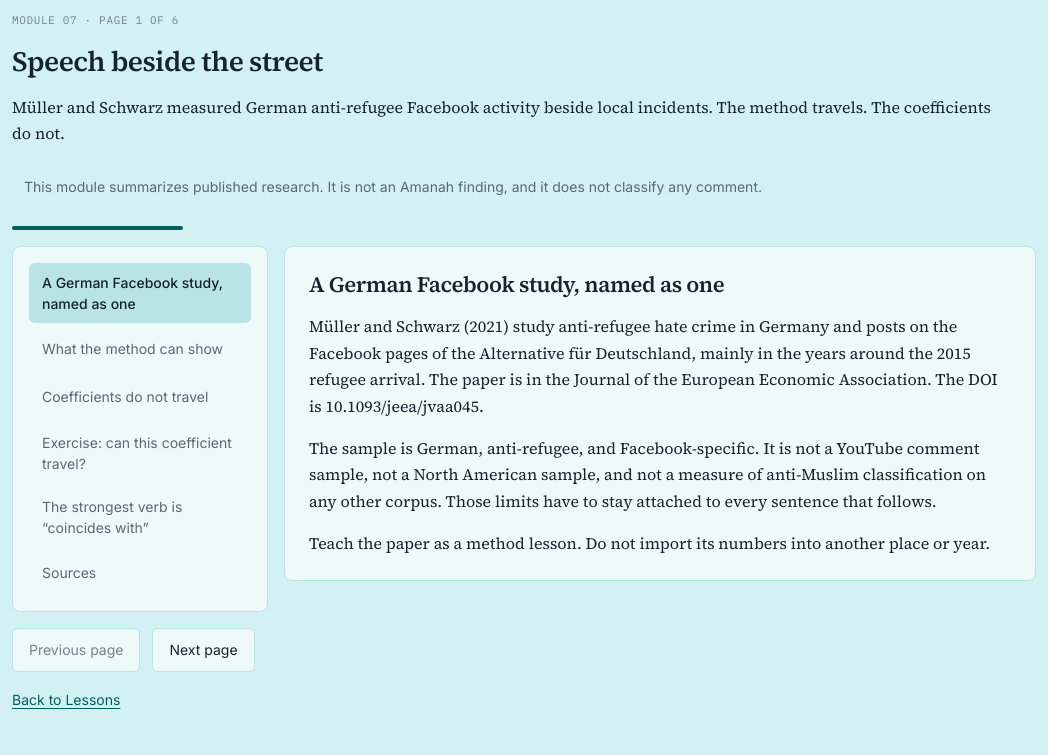
Test: LessonReaderPage › explains a wrong coefficient import as a category error
What coordinates should you click on to do the following:
click the button "Exercise: can this coefficient travel?"
I would click on:
 (140, 453)
Its box is [29,423,251,483].
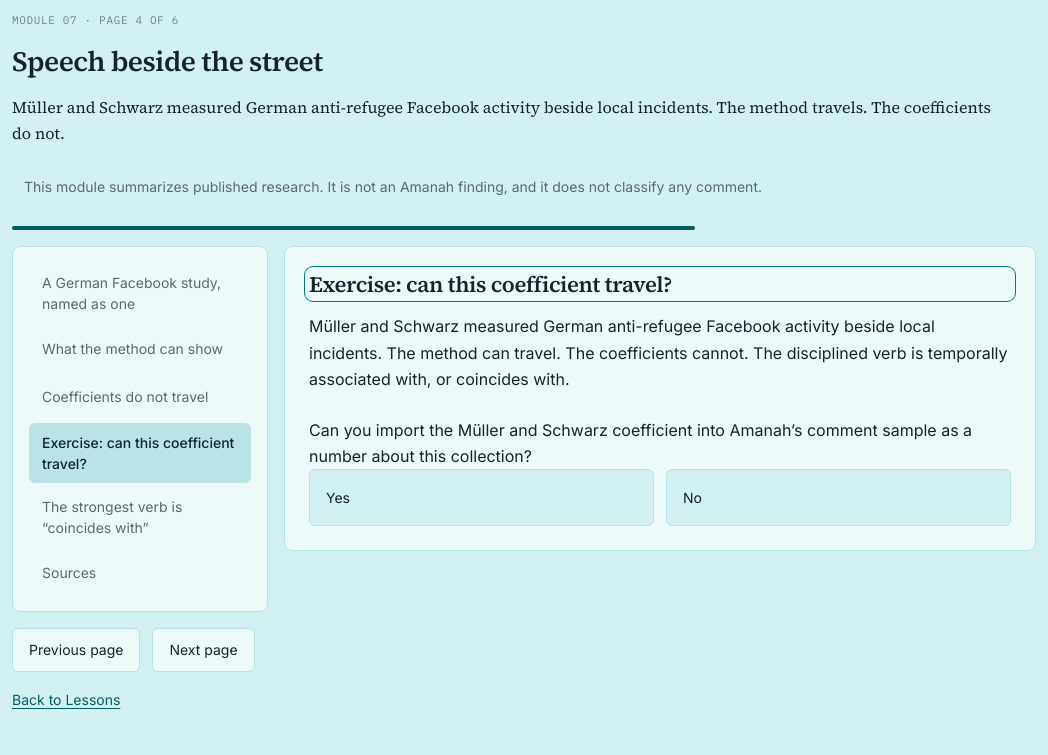
What coordinates should you click on to do the following:
click the button "Yes"
I would click on:
 (338, 498)
Its box is [309,469,654,526].
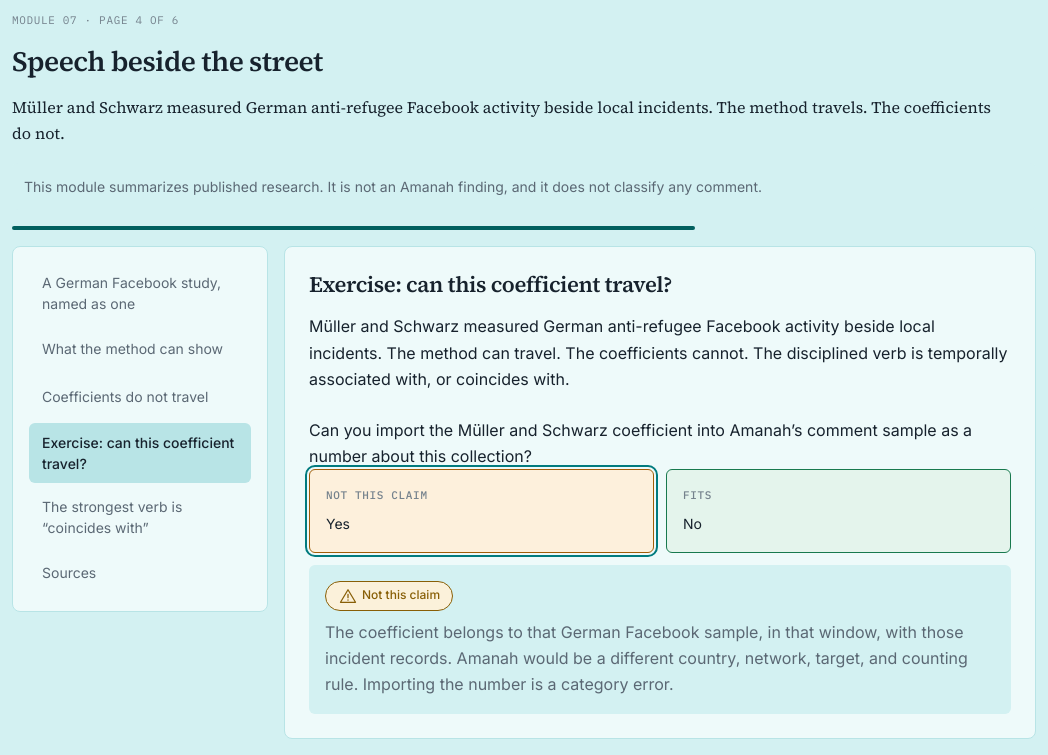
Expected: the text "category error" is shown, [325,622,968,694]
